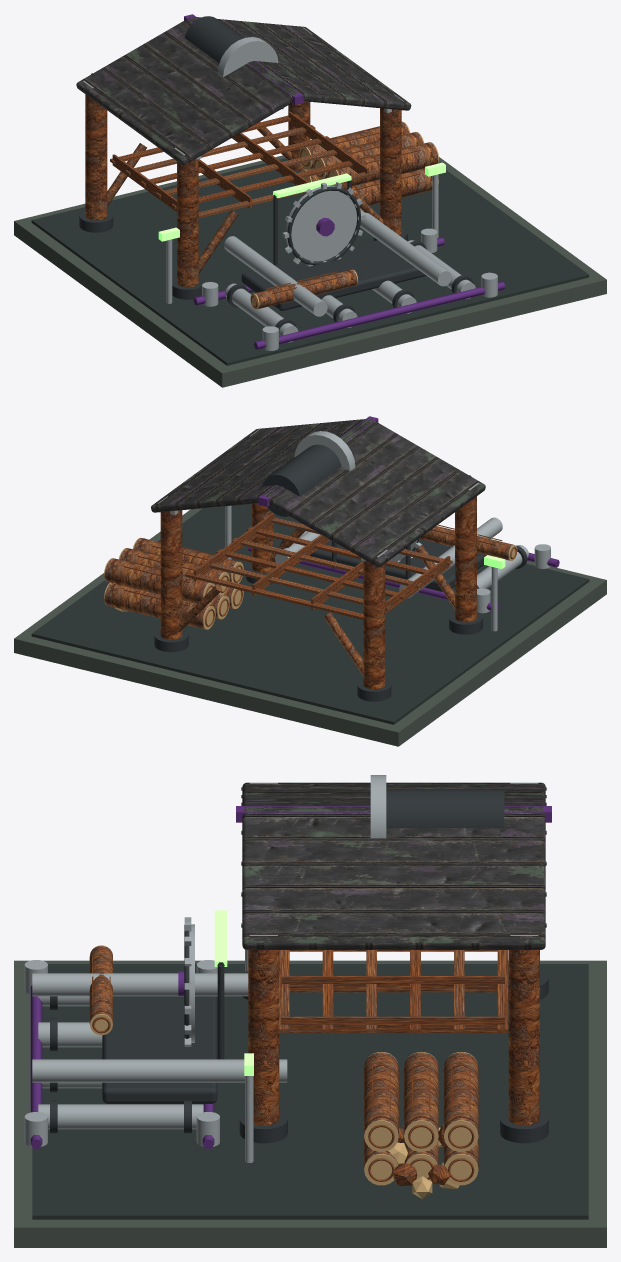
The model's file is timberline_v4_l01.glb.
3 renders of one model, top to bottom at view 1: azimuth 30°, elevation 25°; view 2: azimuth 150°, elevation 25°; view 3: azimuth 270°, elevation 25°, orthographic. The views are drawn at different scales.
Visible parts, largest first — view 1: timberline_v4_l01, stone_yard_base, saw_carriage, circular_saw_blade, saw_rotor, conveyor_roller_0, saw_safety_light, conveyor_roller_30, conveyor_roller_20; view 2: timberline_v4_l01, stone_yard_base, saw_carriage, conveyor_roller_0; view 3: timberline_v4_l01, stone_yard_base, saw_carriage, conveyor_roller_30, conveyor_roller_10, saw_rotor, saw_safety_light, roof_spine.
Part boxes in pixels (box(x1,y1,x2,y2)): timberline_v4_l01: box(31, 16, 589, 365); stone_yard_base: box(14, 155, 606, 387); saw_carriage: box(241, 240, 426, 310); circular_saw_blade: box(285, 185, 356, 261); saw_rotor: box(282, 182, 365, 266); conveyor_roller_0: box(225, 283, 298, 342); saw_safety_light: box(273, 173, 351, 198); conveyor_roller_30: box(408, 240, 475, 299); conveyor_roller_20: box(372, 280, 416, 313); timberline_v4_l01: box(31, 418, 589, 724); stone_yard_base: box(14, 508, 606, 746); saw_carriage: box(309, 539, 484, 591); conveyor_roller_0: box(477, 545, 528, 588); timberline_v4_l01: box(24, 775, 588, 1219); stone_yard_base: box(14, 960, 606, 1247); saw_carriage: box(102, 996, 217, 1103); conveyor_roller_30: box(38, 1104, 203, 1129); conveyor_roller_10: box(38, 1022, 102, 1047); saw_rotor: box(178, 917, 191, 1046); saw_safety_light: box(214, 910, 227, 966); roof_spine: box(236, 806, 551, 822).
Size of the model in its own units: 6.5 by 3.5 by 6.1.
10 materials, 3 textured.
